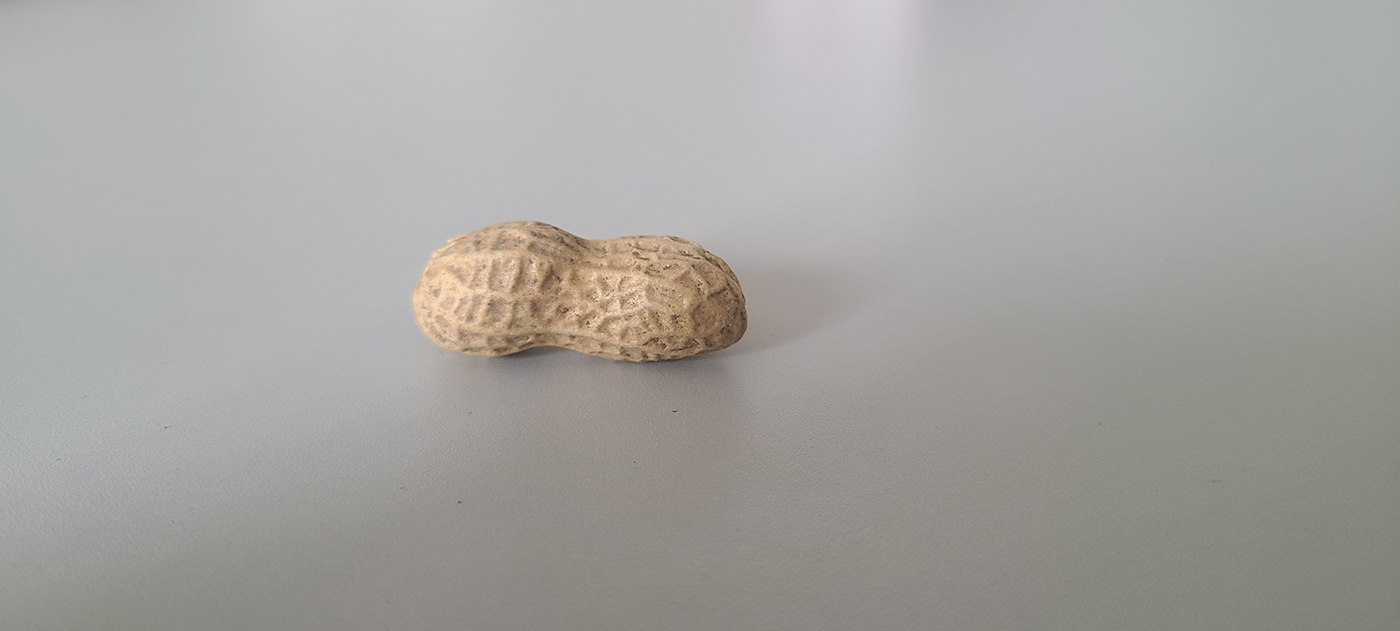h: (408, 217, 749, 364)
